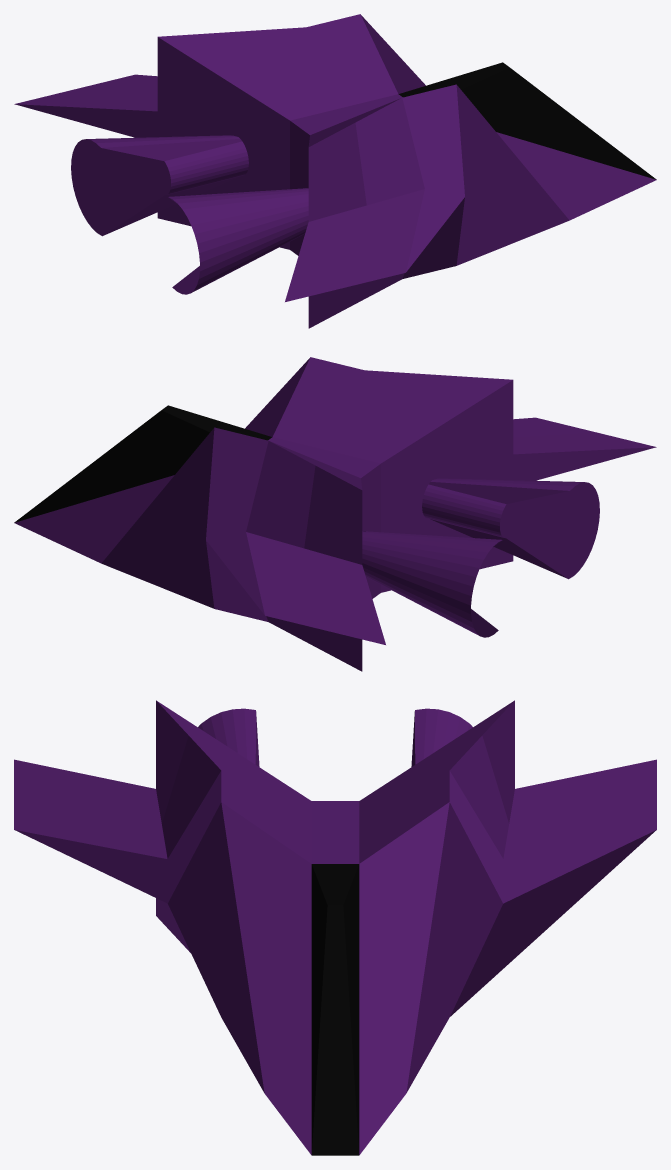
File: Spaceship2.fbx
3 views of the same model, one above another, from view 1: azimuth 30°, elevation 25°; view 2: azimuth 150°, elevation 25°; view 3: azimuth 270°, elevation 25° (orthographic). The views are drawn at different scales.
Visible parts, largest first — view 1: Cube; view 2: Cube; view 3: Cube.
Part boxes in pixels (bbox=[...]): Cube: bbox=[14, 14, 656, 328]; Cube: bbox=[14, 357, 656, 671]; Cube: bbox=[14, 700, 656, 1155].
Bounding box in the file's own units: 591 × 541 × 200.
